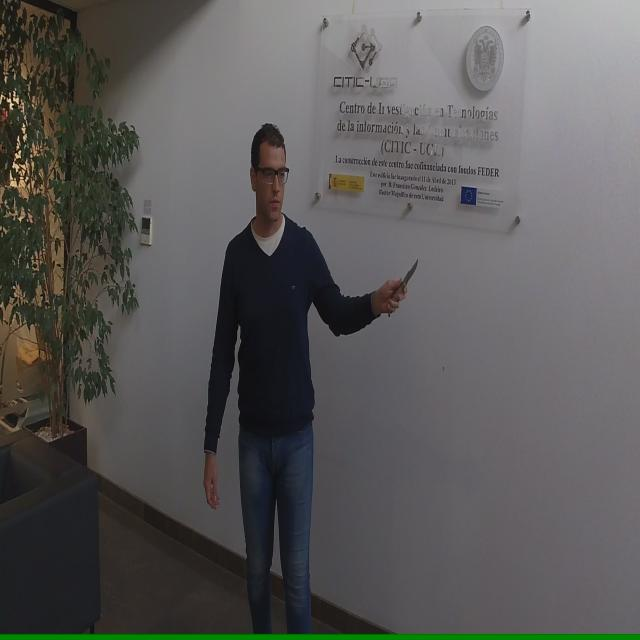knife: (384, 250, 421, 320)
